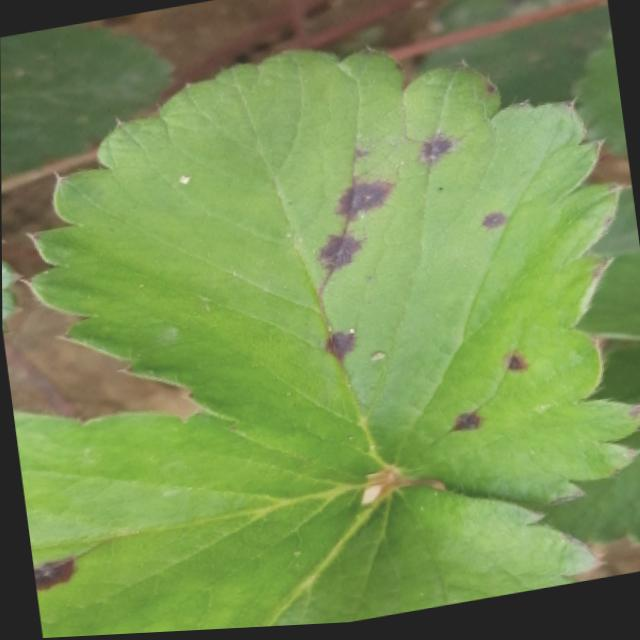Leaf Spot: (20, 49, 640, 516), (11, 406, 366, 638), (0, 26, 172, 175), (407, 0, 611, 111)
